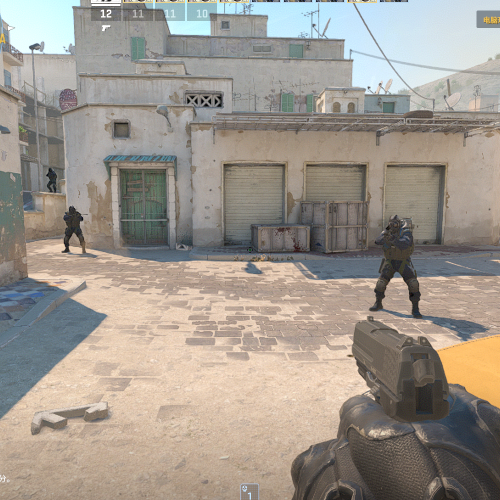ct_body: (374, 214, 422, 319), (63, 206, 88, 254), (45, 167, 57, 193)
ct_head: (388, 214, 401, 232), (68, 206, 77, 214), (48, 168, 53, 173)
